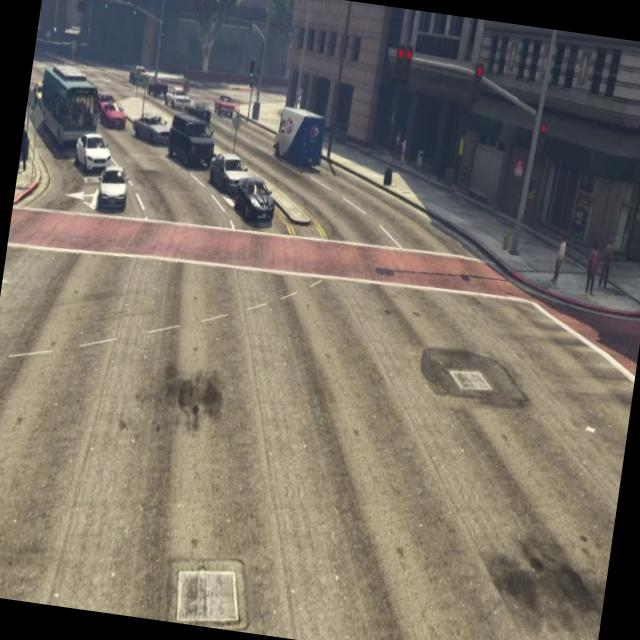Red-Signal: (386, 36, 418, 104), (466, 54, 490, 114), (534, 118, 553, 166)
